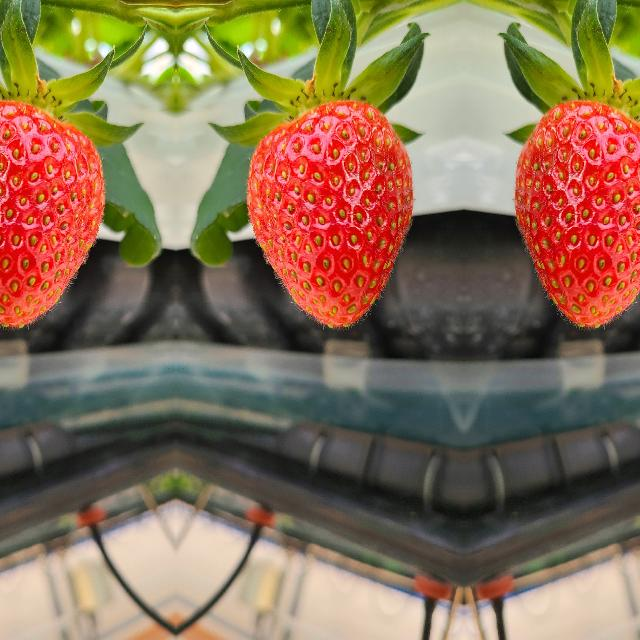Health_100: (243, 97, 415, 330), (511, 97, 640, 330), (0, 97, 107, 330)
